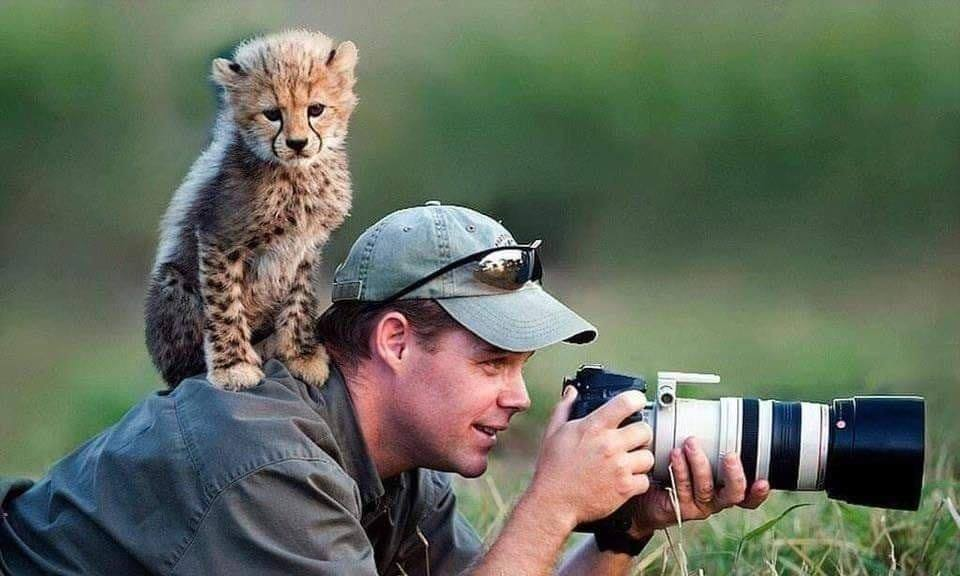camera: (545, 361, 928, 532)
hat: (330, 196, 603, 354)
leopard: (135, 25, 370, 386)
person: (1, 198, 771, 574)
sunglasses: (363, 234, 550, 320)
